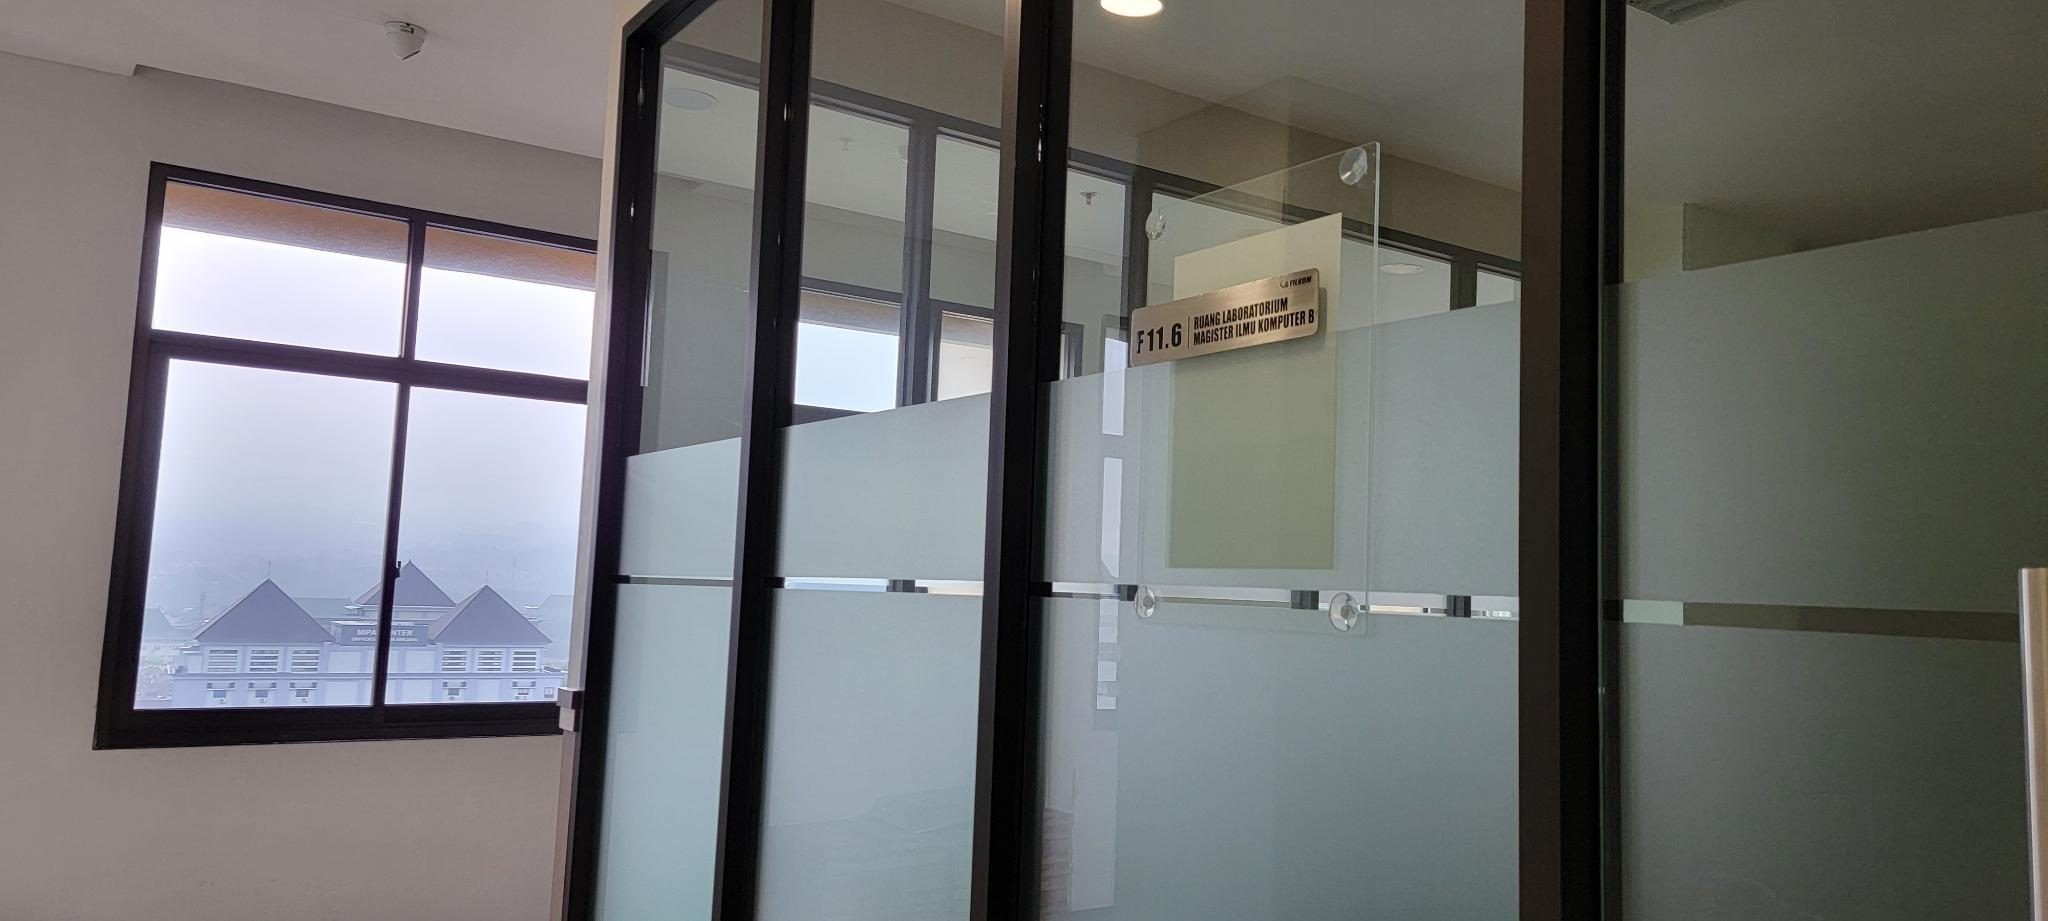plate: (1123, 261, 1324, 372)
